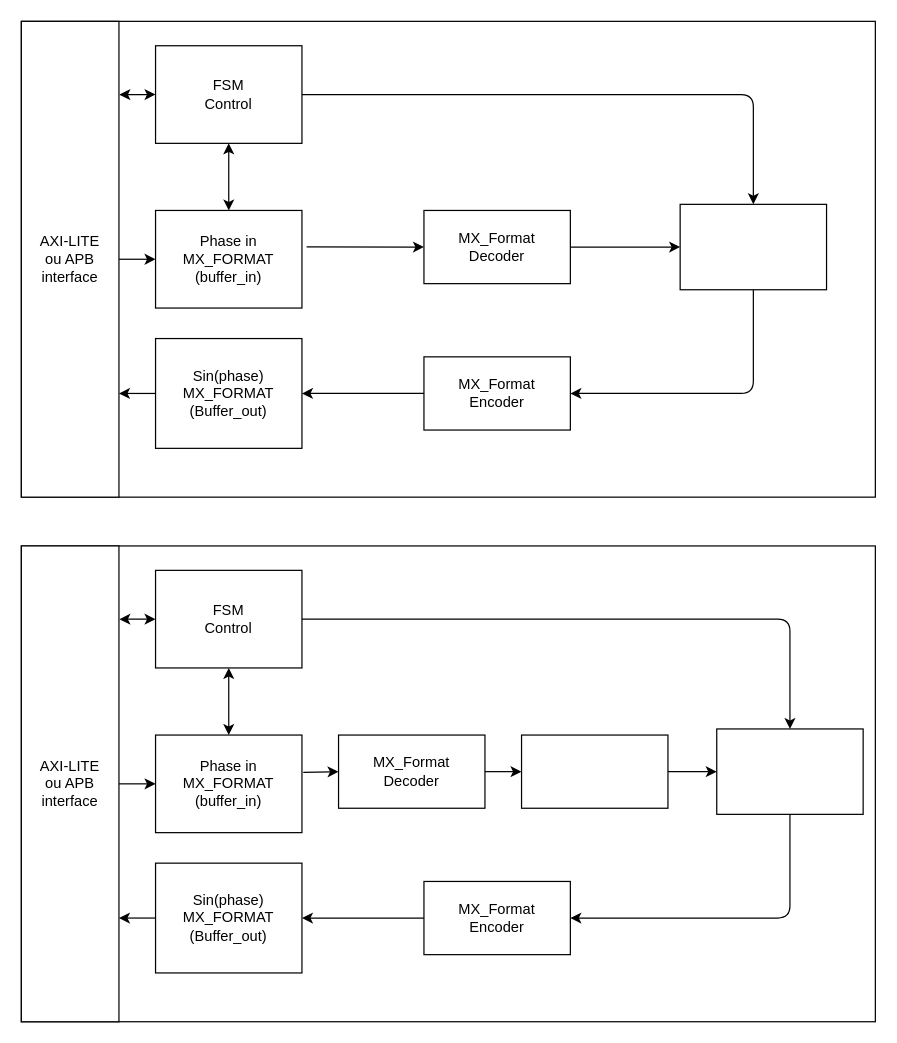
Image size: 897x1043. Some labels were removed from this diagram. Here are the shapes that lost their labels. From the top down, the centre of each, then its label:
point 753,246: CORDIC
point 594,771: phase normalize
point 789,771: LUT
